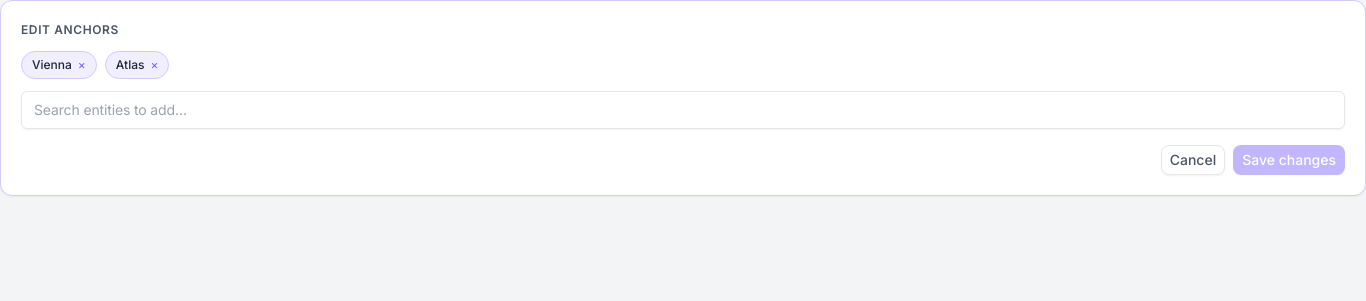
Test: StorylineAnchorEditor › re-adding a removed anchor cancels the diff and disables Save again
This screenshot has width=1366, height=301.
Click the button with test id "anchor-editor-remove-514".
click(154, 65)  # box left=150, top=59, right=158, bottom=71
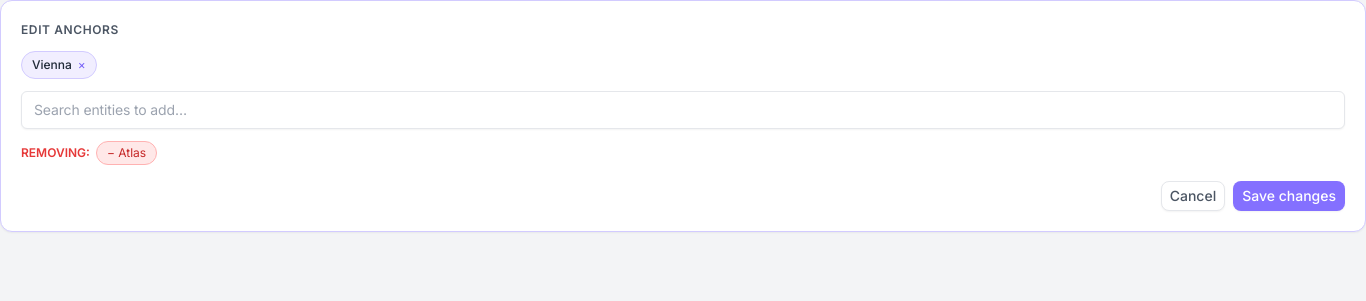
Type "atlas" into the search field with test id "anchor-editor-search".
click(683, 110); type("atlas")  # box left=21, top=91, right=1345, bottom=129
Wait 260 ms
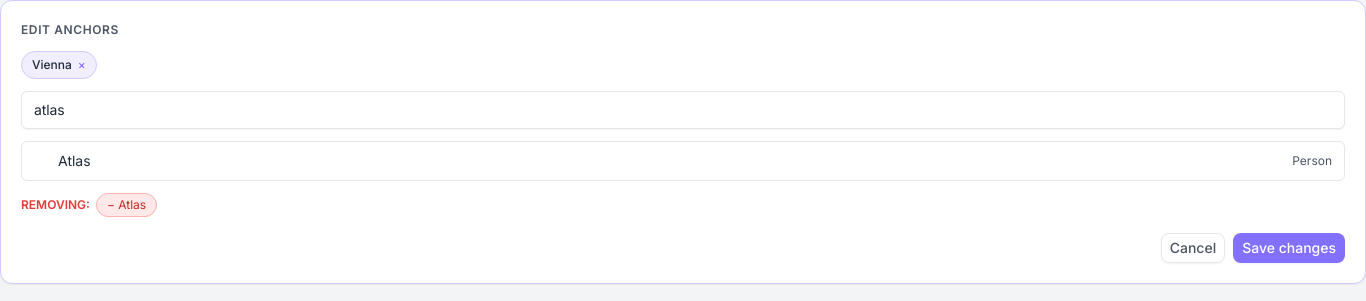
Click the list item with test id "anchor-editor-result".
click(74, 160)  # box left=58, top=152, right=1332, bottom=169
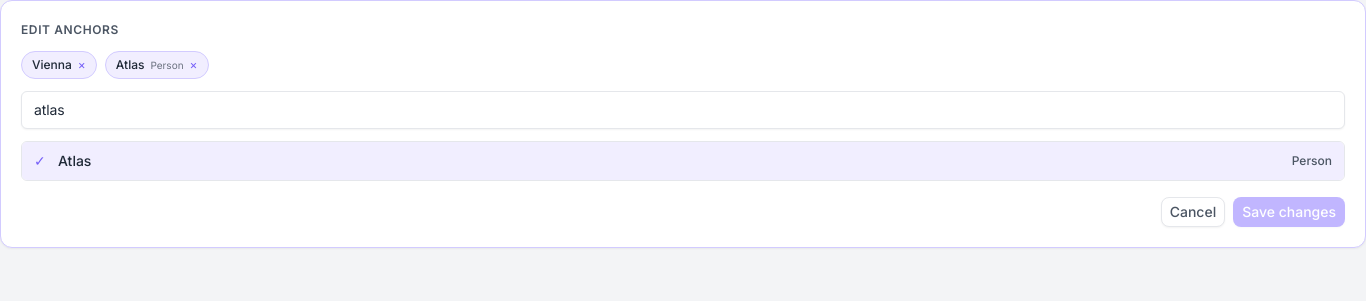
Check: the button with test id "anchor-editor-save" is disabled, box left=1233, top=197, right=1345, bottom=227
